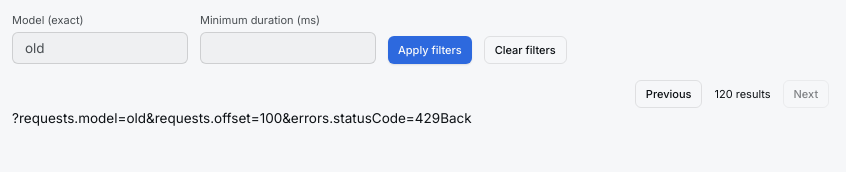
Test: Gateway filter URL and pagination lifecycle › clears draft, URL filters and pagination without clearing the other tab
Replace the text in the field labelled "Model (exact)" with "draft" at (100, 48), box [12,32,188,64]
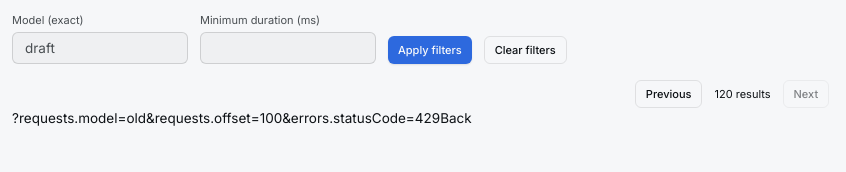
Click the button "Clear filters" at (525, 50), box [484,36,567,64]
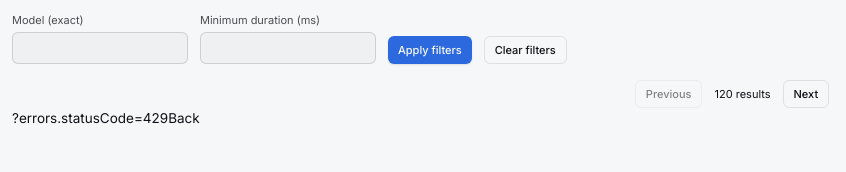
Check: the field labelled "Model (exact)" is empty, box [12,32,188,64]
Check: the button "Previous" is disabled, box [635,80,702,108]
